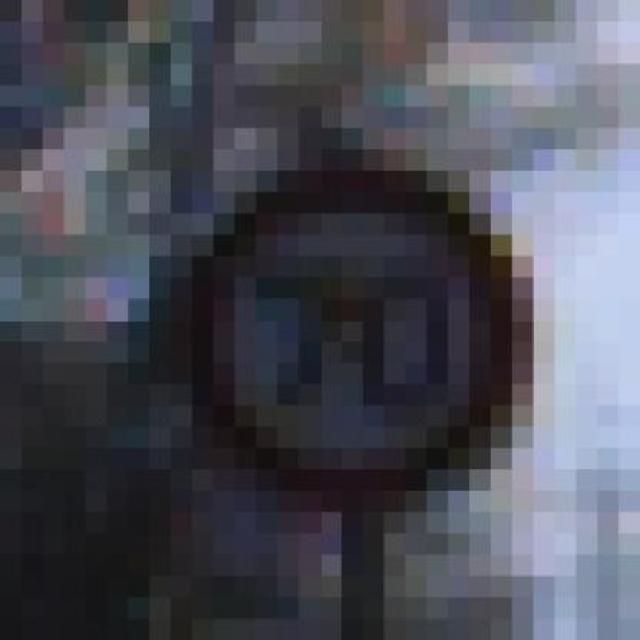forb_speed_over_70: (192, 173, 517, 492)
